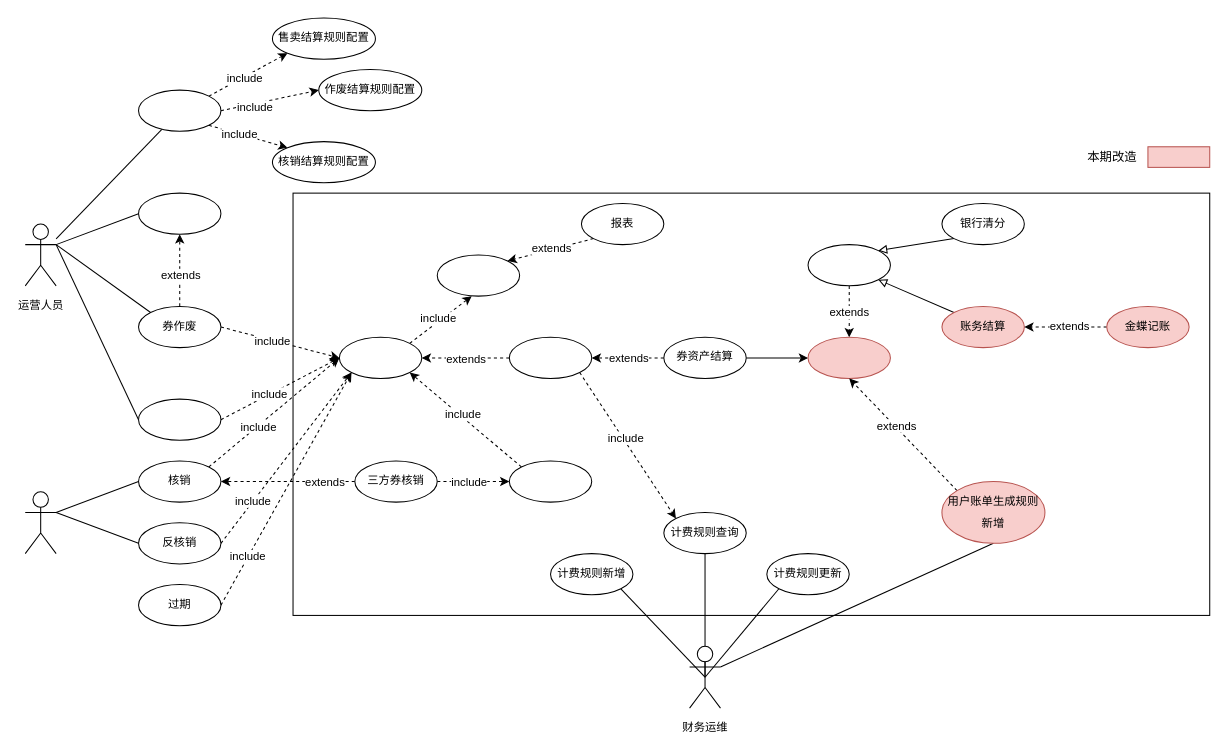
Image size: 1228x756. Some labels were removed from this diagram. The centre of each missing label's shape, as x and y in pixels:
"三方券结算" belongs at point (550, 481).
"券模版作废" belongs at point (179, 213).
"券资产更新" belongs at point (380, 357).
"券资产查询" belongs at point (478, 275).
"券资产计费" belongs at point (550, 357).
"发券" belongs at point (179, 419).
"客户" belongs at point (40, 522).
"生成用户账单" belongs at point (848, 357).
"财务支付" belongs at point (848, 265).
"配置券模版" belongs at point (179, 110).
